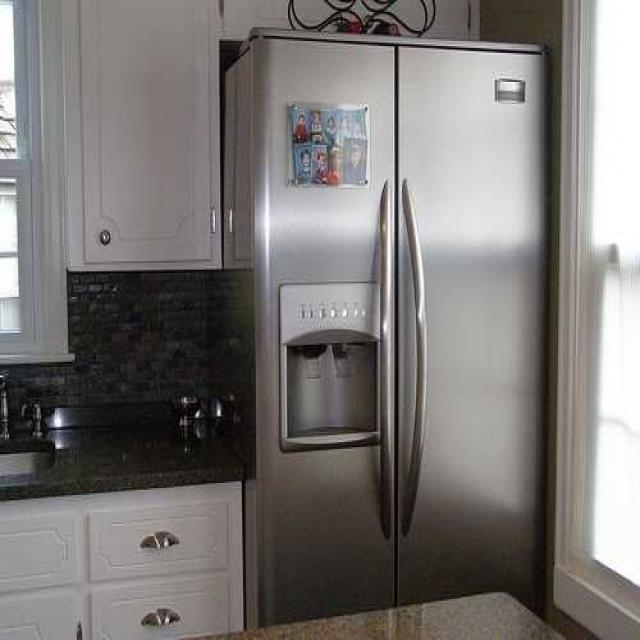refrigerator: (250, 26, 550, 627)
